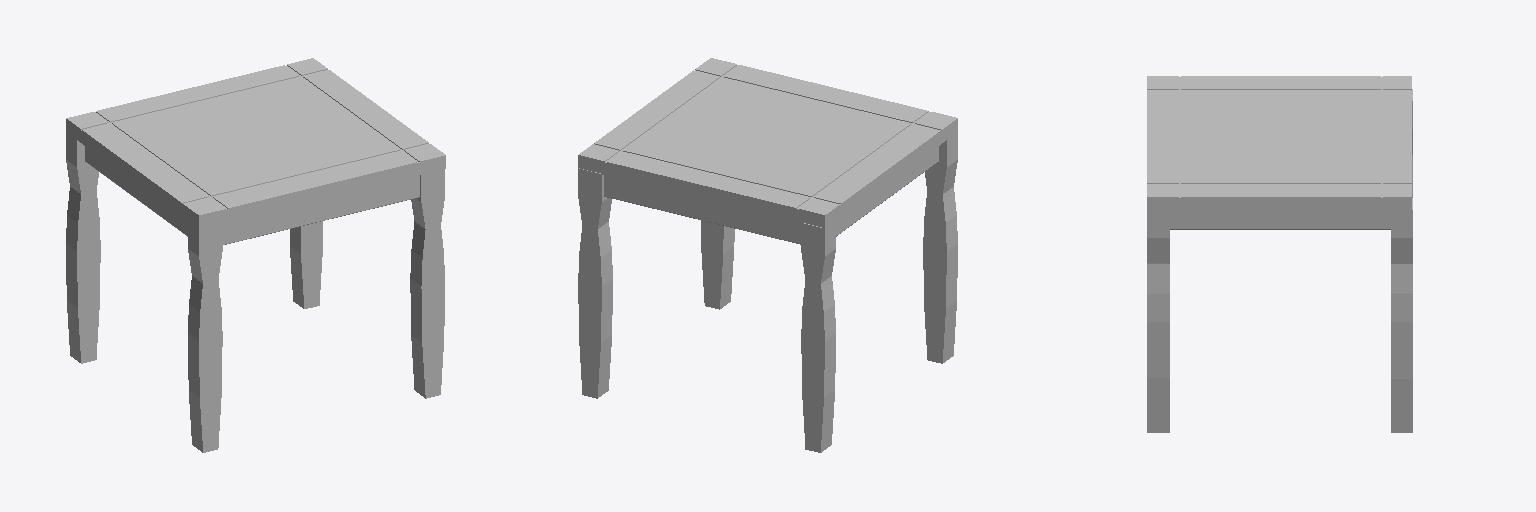
Rendered from table5.obj.
3 renders of one model, left to right at view 1: azimuth 30°, elevation 25°; view 2: azimuth 150°, elevation 25°; view 3: azimuth 270°, elevation 25°, orthographic.
Size of the model in its own units: 54.31 by 50.11 by 50.66.